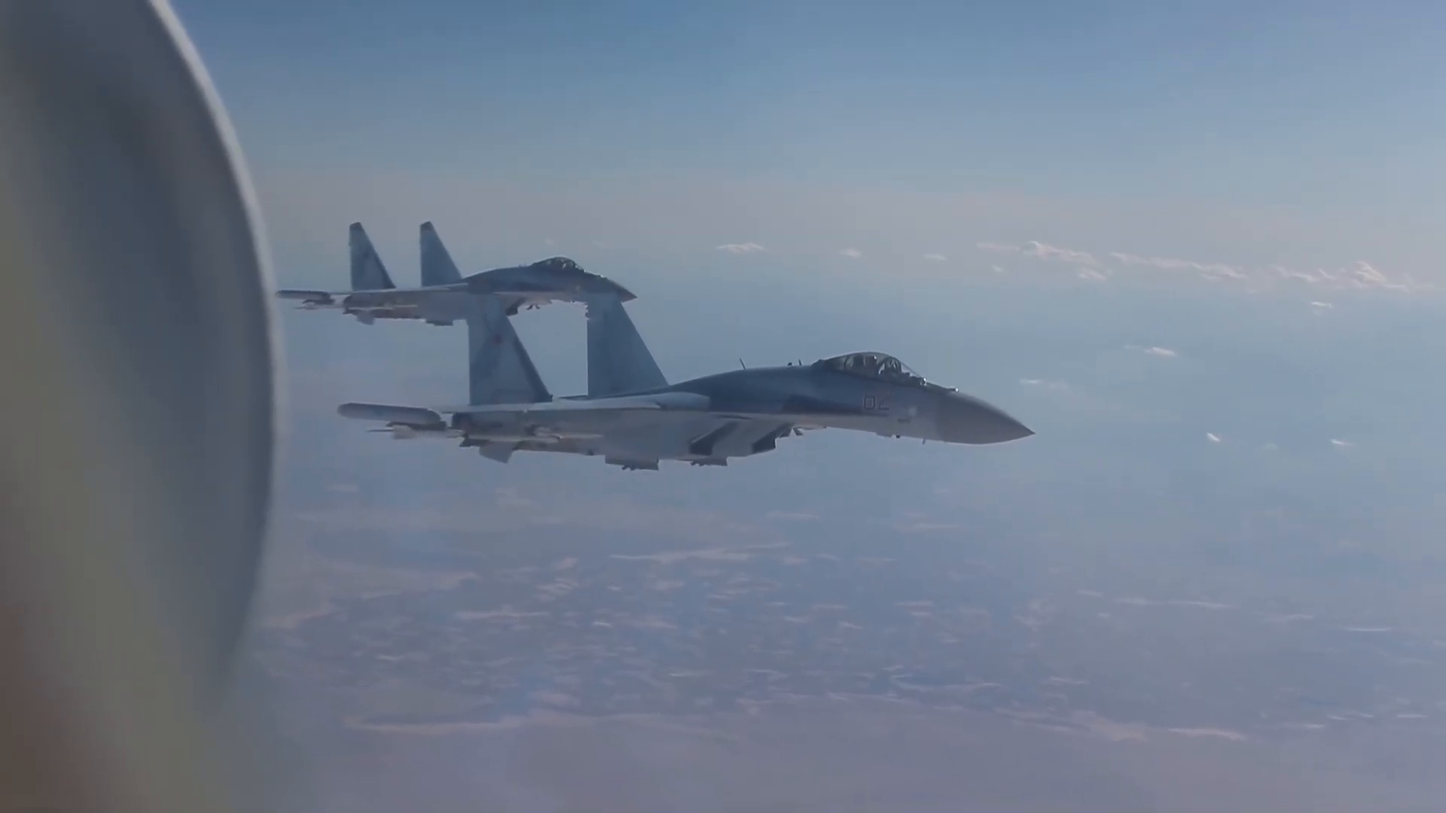Su35: (335, 293, 1037, 471), (275, 223, 638, 328)
